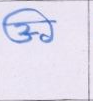o_matra: (39, 9, 55, 44)
